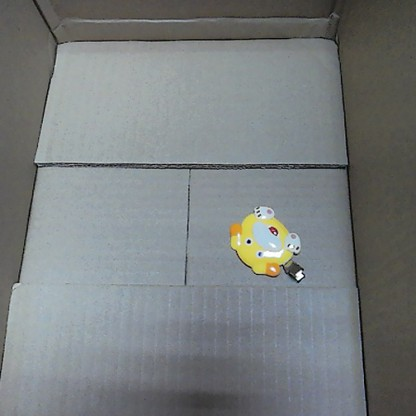dogclip: (225, 201, 307, 280)
